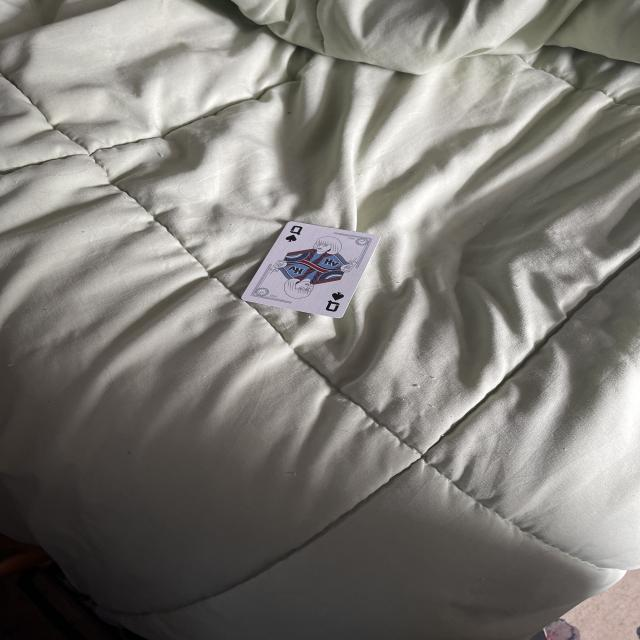Queen of spades: (241, 221, 382, 317)
